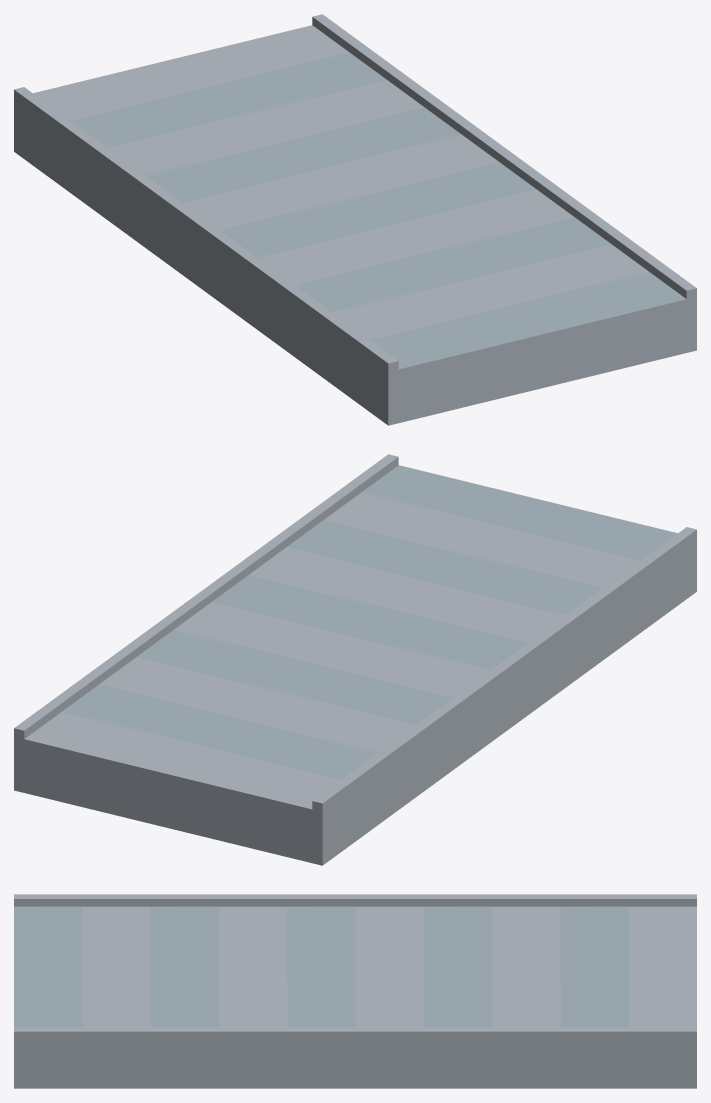
The model's file is FloorSmall (1).fbx.
3 views of the same model, one above another, from view 1: azimuth 30°, elevation 25°; view 2: azimuth 150°, elevation 25°; view 3: azimuth 270°, elevation 25° (orthographic). The views are drawn at different scales.
Visible parts, largest first — view 1: FloorSmall1; view 2: FloorSmall1; view 3: FloorSmall1.
Boxes of the visible parts, x1,y1,x2,y2 form: FloorSmall1: [14, 14, 696, 425]; FloorSmall1: [14, 454, 696, 865]; FloorSmall1: [14, 894, 696, 1088].
Bounding box in the file's own units: 1213 × 234 × 2550.
Materials: 1 (1 with a texture image).
